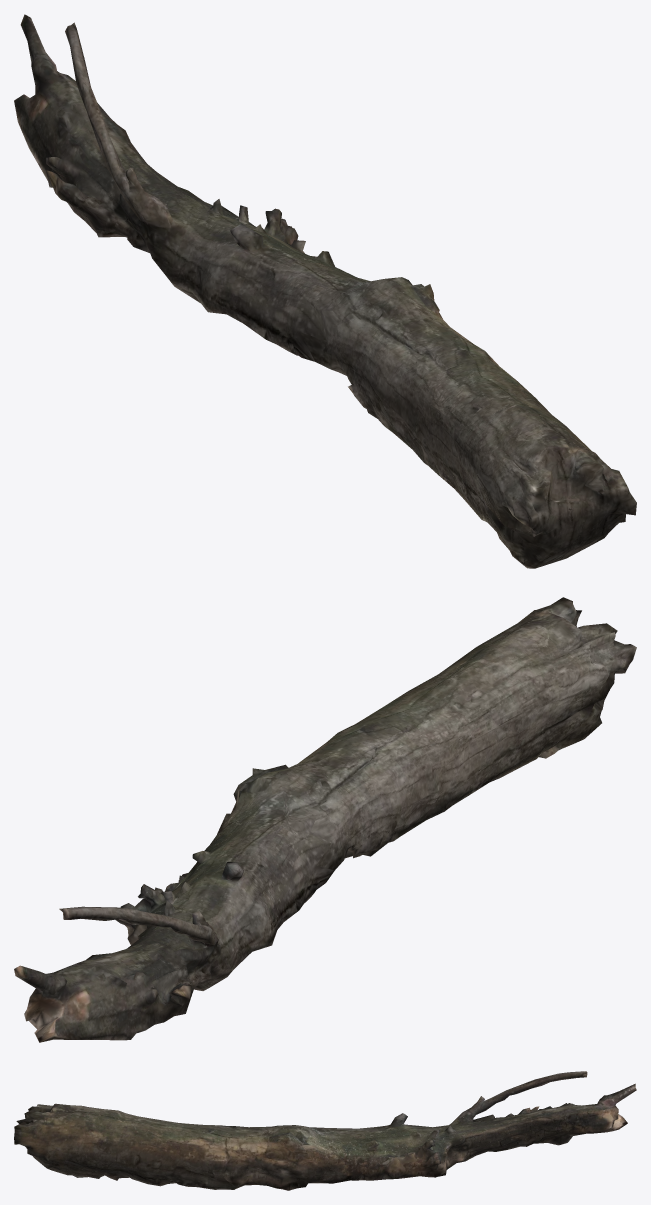
The model's file is branch_b.glb.
The picture shows the model from 3 angles, top to bottom: view 1: azimuth 30°, elevation 25°; view 2: azimuth 150°, elevation 25°; view 3: azimuth 270°, elevation 25°; orthographic projection. The views are drawn at different scales.
Parts seen in each view (by area): view 1: Forest_branch_b; view 2: Forest_branch_b; view 3: Forest_branch_b.
Boxes of the visible parts, x1=… form: Forest_branch_b: x1=14, y1=14, x2=636, y2=568; Forest_branch_b: x1=14, y1=597, x2=636, y2=1042; Forest_branch_b: x1=14, y1=1071, x2=636, y2=1190.
Size of the model in its own units: 0.1294 by 0.1429 by 0.7763.
1 material, 1 textured.
